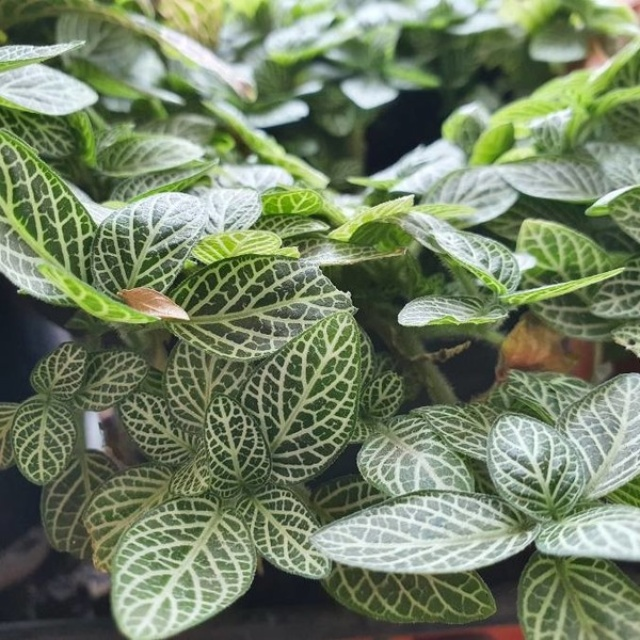obstacle: (1, 69, 326, 612), (322, 255, 595, 604)
